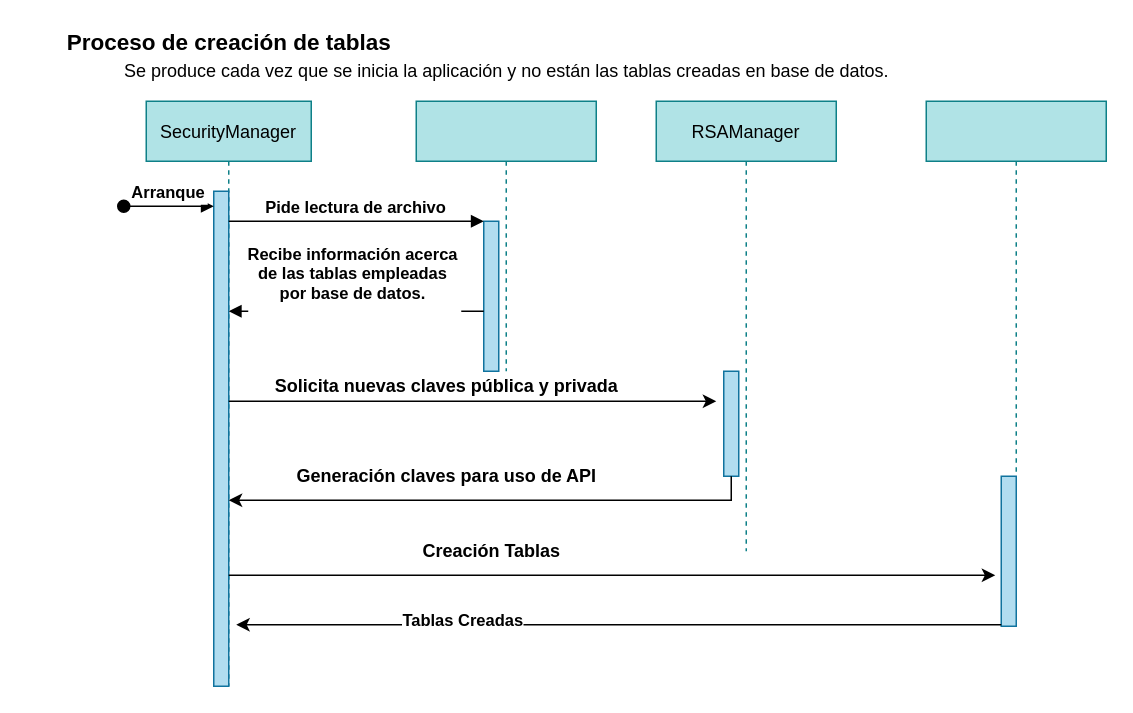
Image size: 1133x713. Some labels were removed from this diagram. Each missing label, with the box of its shape:
DAO: (925, 100, 1106, 626)
SolidDataManager: (415, 100, 596, 371)
